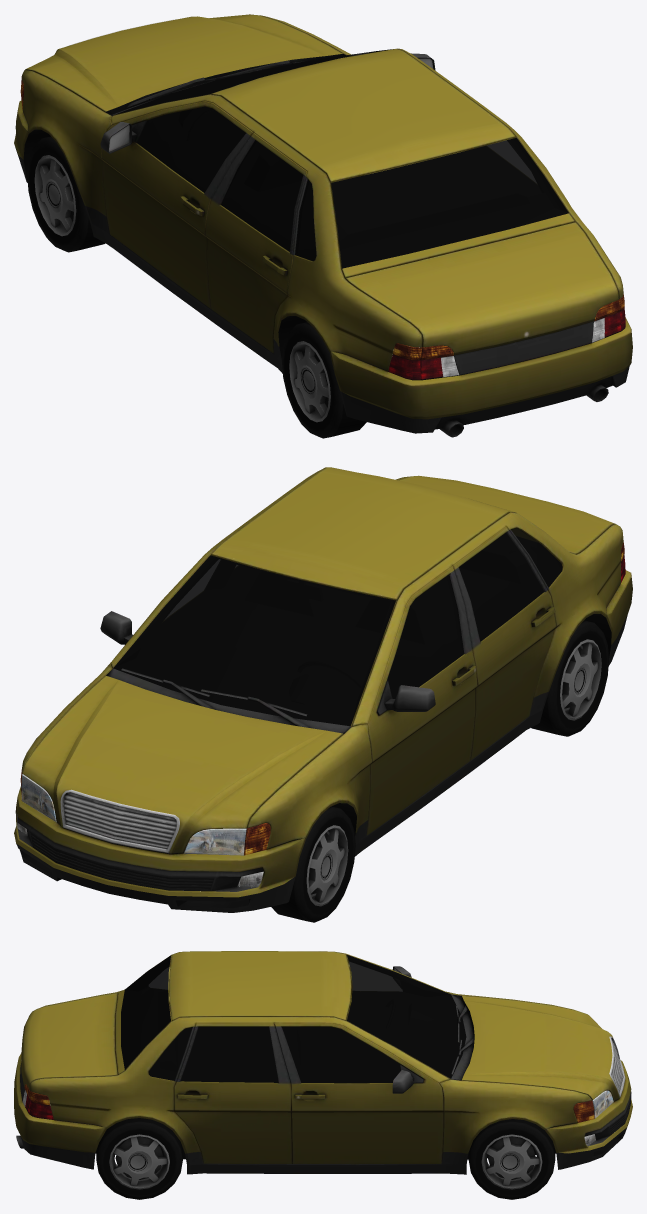
File: pack_sedan.glb
3 views of the same model, one above another, from view 1: azimuth 30°, elevation 25°; view 2: azimuth 150°, elevation 25°; view 3: azimuth 270°, elevation 25° (orthographic). The views are drawn at different scales.
Visible parts, largest first — view 1: Sedan Body_Body_0, Sedan Body_Glass_0, Wheel_A_Wheel_0, Sedan Body_Optics_0; view 2: Sedan Body_Body_0, Sedan Body_Glass_0, Wheel_A_Wheel_0, Sedan Body_Optics_0; view 3: Sedan Body_Body_0, Sedan Body_Glass_0, Wheel_A_Wheel_0, Sedan Body_Optics_0.
Part boxes in pixels (<box>): Sedan Body_Body_0: <box>14,14,632,437</box>; Sedan Body_Glass_0: <box>114,49,568,268</box>; Wheel_A_Wheel_0: <box>27,136,366,438</box>; Sedan Body_Optics_0: <box>20,76,625,380</box>; Sedan Body_Body_0: <box>14,467,632,912</box>; Sedan Body_Glass_0: <box>113,528,562,726</box>; Wheel_A_Wheel_0: <box>271,620,608,922</box>; Sedan Body_Optics_0: <box>16,542,625,887</box>; Sedan Body_Body_0: <box>14,951,632,1174</box>; Sedan Body_Glass_0: <box>121,955,466,1083</box>; Wheel_A_Wheel_0: <box>96,1118,555,1199</box>; Sedan Body_Optics_0: <box>22,1084,613,1145</box>.
Size of the model in its own units: 1.94 by 1.34 by 4.36.
4 materials, 3 textured.
